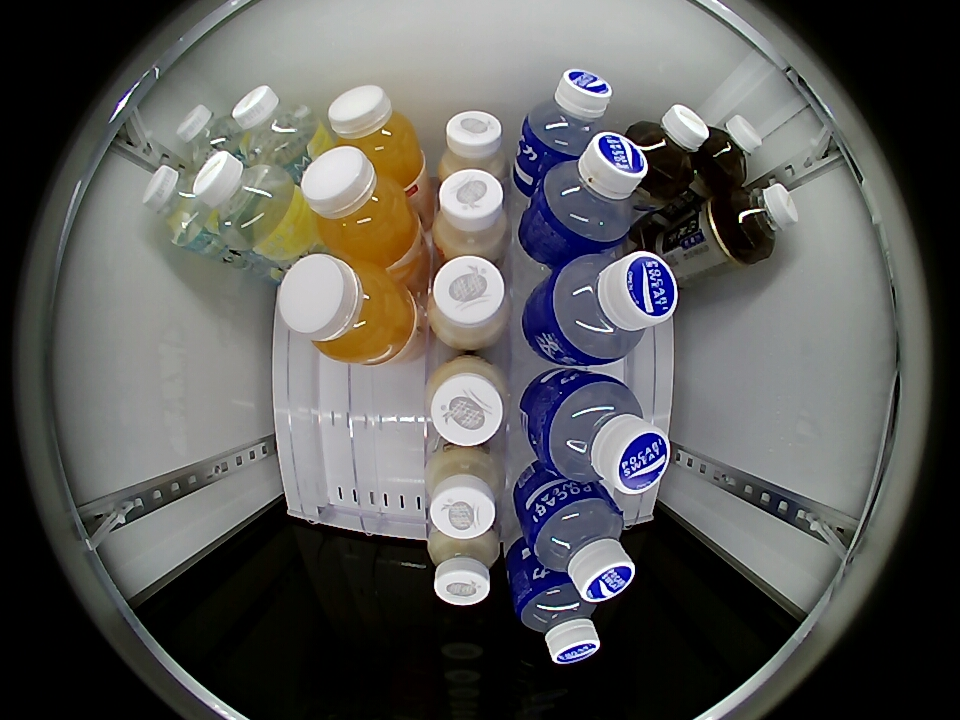baokuangli: (532, 372, 670, 494), (539, 250, 679, 366), (530, 133, 649, 251), (524, 485, 635, 602), (521, 69, 612, 164), (513, 574, 600, 664)
qinningshui: (192, 152, 298, 252), (232, 85, 319, 165), (142, 165, 213, 247), (176, 105, 242, 166)
weic: (279, 253, 417, 366), (301, 146, 421, 266), (326, 85, 424, 187)
weiweidounai: (427, 255, 511, 349), (425, 356, 509, 448), (431, 169, 511, 261), (425, 446, 503, 538), (427, 525, 501, 606), (438, 110, 506, 184)
wulongcha: (624, 104, 709, 192), (727, 181, 799, 260), (699, 115, 763, 185)
